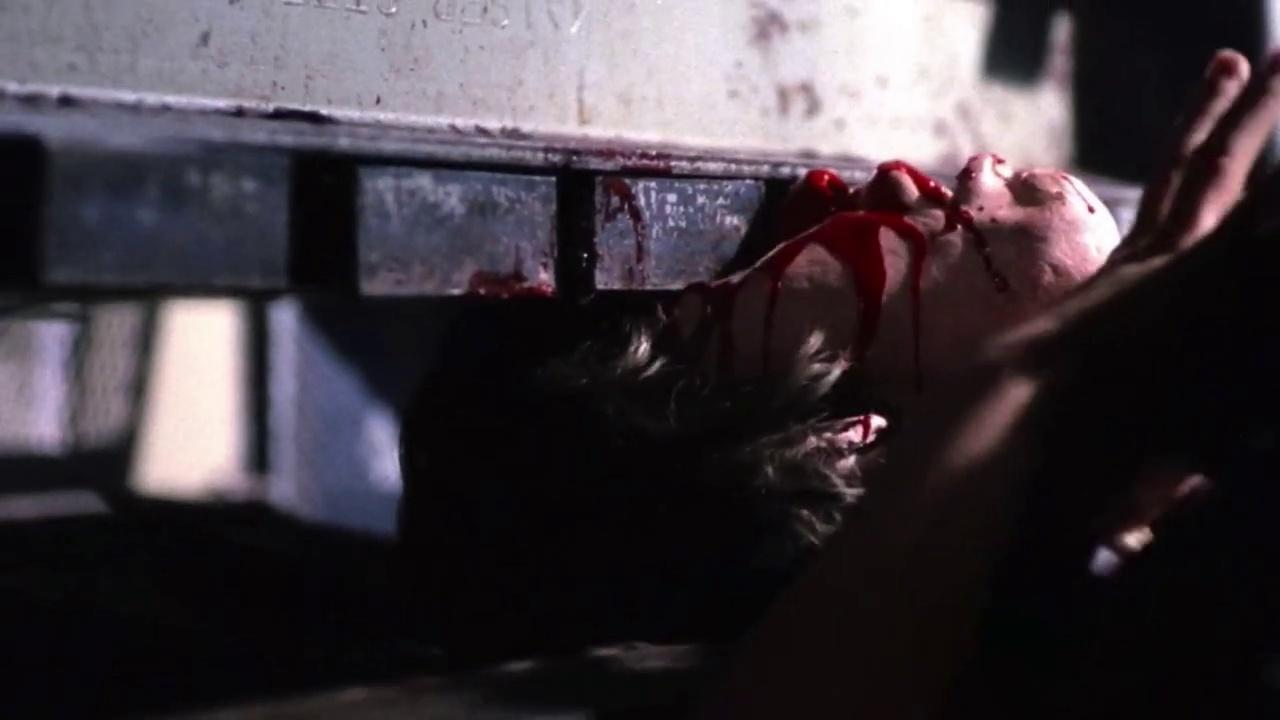Fire: (558, 153, 1123, 540), (400, 170, 559, 298)
